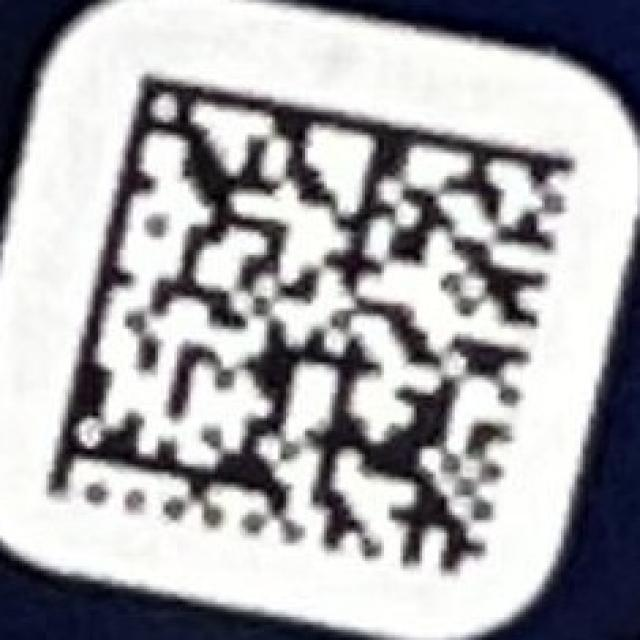QR_CODE: (45, 68, 578, 576)
